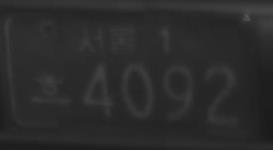0: (119, 62, 154, 120)
1: (150, 25, 176, 56)
2: (202, 63, 237, 126)
4: (81, 62, 115, 120)
9: (160, 64, 195, 122)
서울_O: (75, 24, 140, 58)
흐: (31, 72, 71, 105)
